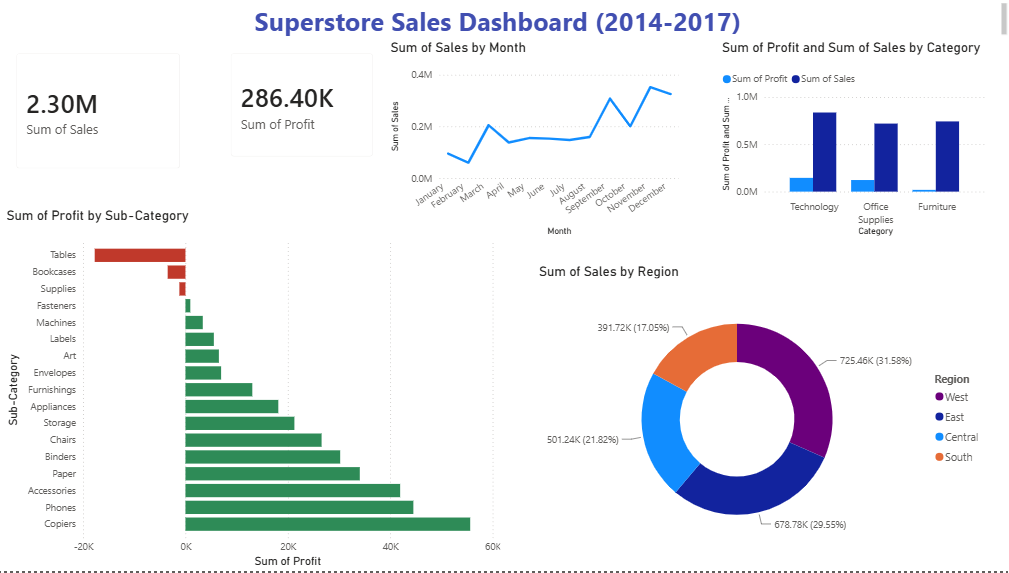

This screenshot's page, from the dashboard's own definition file:
{"tool":"powerbi","page":{"name":"Page 1","canvas":[1280,720],"ordinal":0},"visuals":[{"type":"lineChart","fields":{"Category":["Sample - Superstore.Order Date.Variation.Date Hierarchy.Month"],"Y":["Sum(Sample - Superstore.Sales)"]},"box":[493.2,51,372.3,251.3],"z":0},{"type":"clusteredColumnChart","fields":{"Category":["Sample - Superstore.Category"],"Y":["Sum(Sample - Superstore.Profit)","Sum(Sample - Superstore.Sales)"]},"box":[909,51,342,251.3],"z":1000},{"type":"clusteredBarChart","fields":{"Category":["Sample - Superstore.Sub-Category"],"Y":["Sum(Sample - Superstore.Profit)"]},"box":[9.4,262.7,631.2,457.3],"z":2000},{"type":"donutChart","fields":{"Category":["Sample - Superstore.Region"],"Y":["Sum(Sample - Superstore.Sales)"]},"box":[678.4,332.6,572.6,362.8],"z":3000},{"type":"cardVisual","fields":{"Data":["Sum(Sample - Superstore.Sales)"]},"box":[9.4,51,240,179.5],"z":4000},{"type":"cardVisual","fields":{"Data":["Sum(Sample - Superstore.Profit)"]},"box":[279.7,51,213.5,164.4],"z":5000},{"type":"textbox","box":[100.2,0,1179.2,51],"z":6000}]}

Visuals, with their boxes in screenshot pixels (x1, y1, x2, y2), scaled from the page's 1280x720 canvas onto the 1009x573 screenshot:
lineChart - Sample - Superstore.Order Date.Variation.Date Hierarchy.Month x Sum(Sample - Superstore.Sales): (x1=389, y1=41, x2=682, y2=241)
clusteredColumnChart - Sample - Superstore.Category x Sum(Sample - Superstore.Profit): (x1=717, y1=41, x2=986, y2=241)
clusteredBarChart - Sample - Superstore.Sub-Category x Sum(Sample - Superstore.Profit): (x1=7, y1=209, x2=505, y2=572)
donutChart - Sample - Superstore.Region x Sum(Sample - Superstore.Sales): (x1=535, y1=265, x2=986, y2=553)
cardVisual - Sum(Sample - Superstore.Sales): (x1=7, y1=41, x2=197, y2=183)
cardVisual - Sum(Sample - Superstore.Profit): (x1=220, y1=41, x2=389, y2=171)
textbox: (x1=79, y1=0, x2=1008, y2=41)
